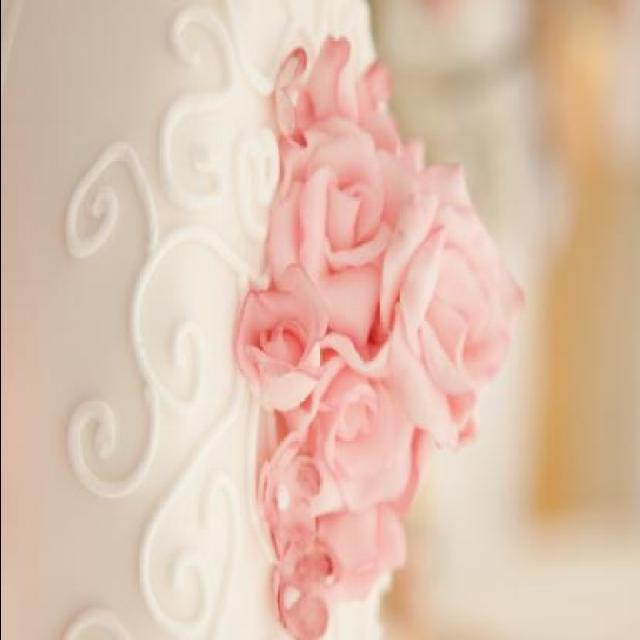Cake: (2, 0, 527, 638)
